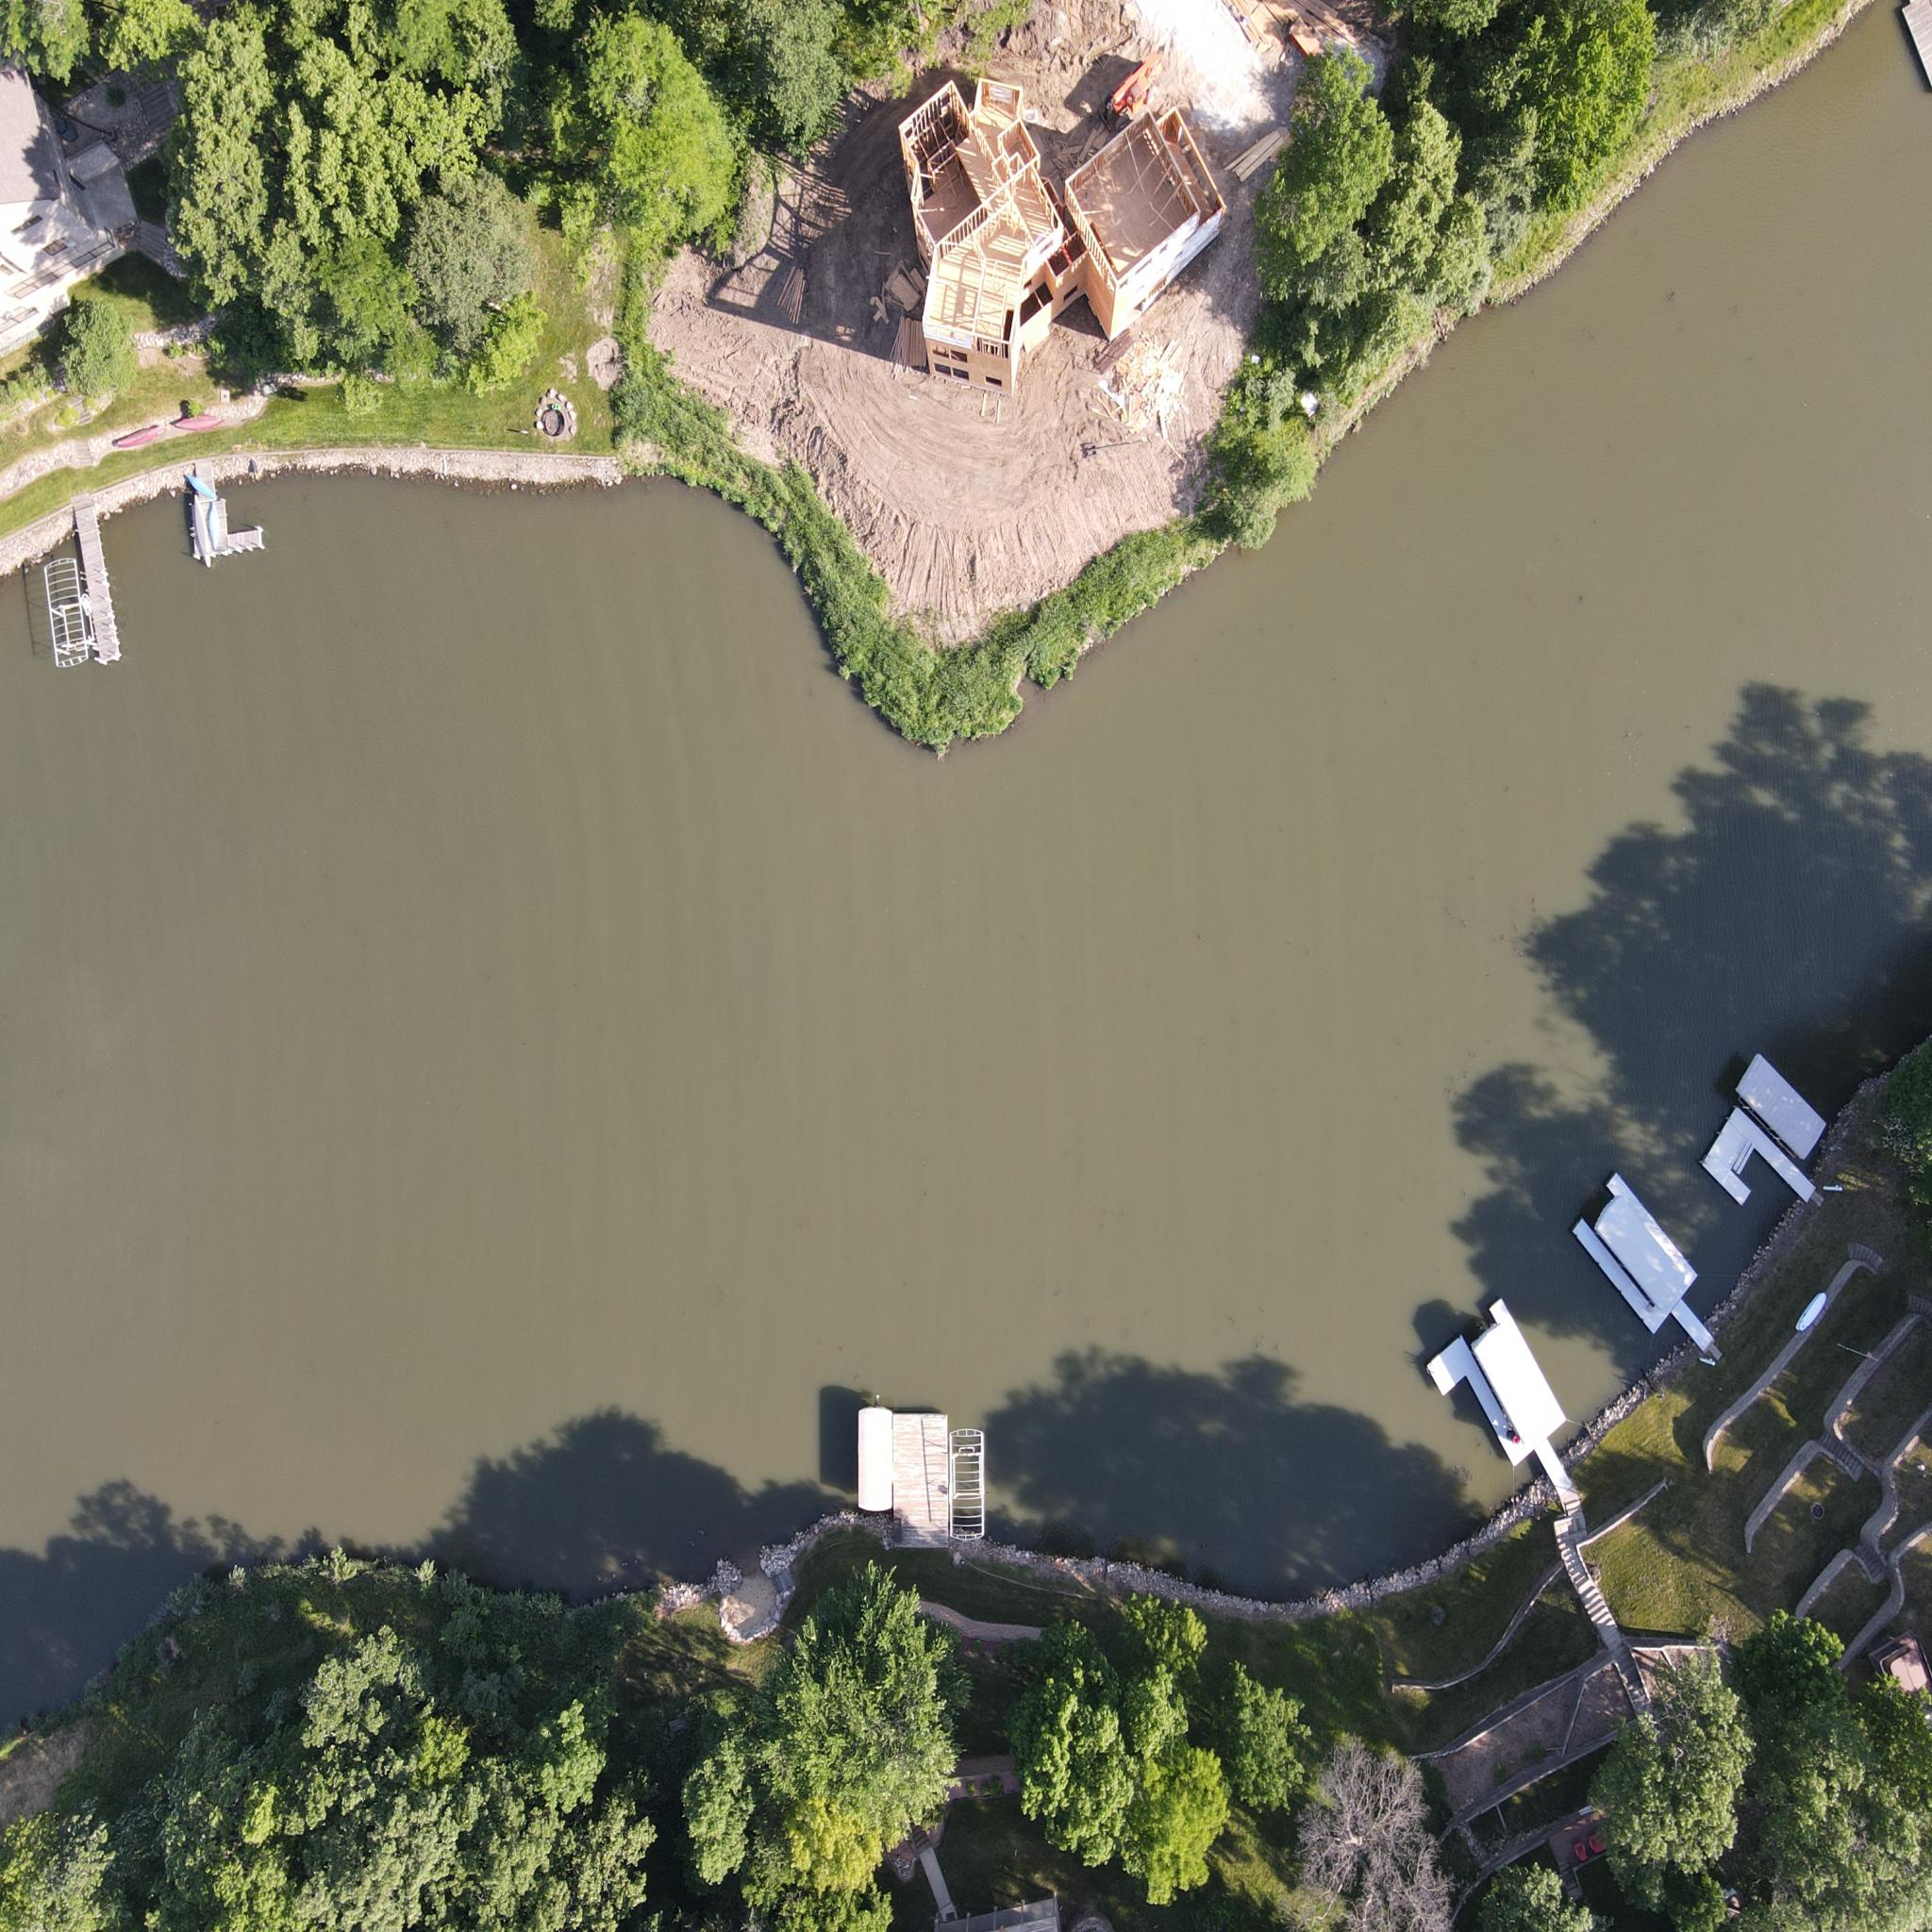dock: (1424, 1292, 1571, 1539), (1571, 1166, 1718, 1389), (1697, 1108, 1808, 1224), (892, 1398, 962, 1557), (74, 508, 138, 672), (186, 472, 285, 566)
lift: (1741, 1042, 1831, 1169), (1605, 1205, 1683, 1339), (39, 545, 90, 683), (1481, 1330, 1539, 1447), (948, 1419, 993, 1546), (858, 1394, 902, 1516)
